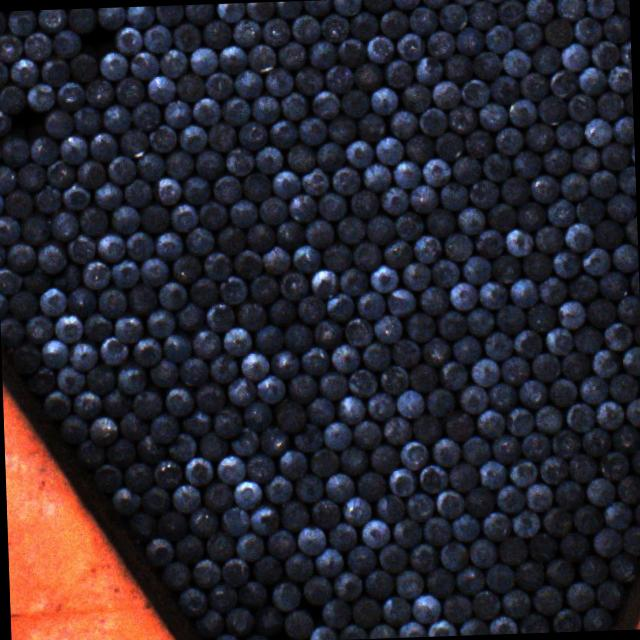tool: (464, 484, 494, 518), (74, 438, 105, 469), (282, 608, 312, 640), (466, 536, 496, 568), (156, 510, 188, 540), (204, 530, 234, 562), (564, 401, 594, 433), (14, 161, 46, 191), (290, 12, 320, 44), (444, 52, 474, 84), (508, 276, 538, 308), (212, 405, 241, 438), (380, 595, 410, 626), (490, 432, 520, 463), (104, 436, 134, 467), (54, 80, 84, 111), (454, 25, 484, 56), (351, 596, 380, 628), (532, 584, 562, 614), (500, 588, 530, 618), (410, 593, 440, 623), (320, 597, 350, 627), (364, 568, 394, 598), (514, 560, 544, 590), (578, 554, 608, 584), (344, 544, 374, 574), (496, 535, 526, 565), (558, 532, 588, 562), (592, 526, 622, 556), (124, 462, 154, 492), (460, 434, 490, 464), (610, 423, 640, 453), (356, 470, 386, 500), (295, 524, 325, 554), (572, 504, 602, 534), (28, 134, 58, 164), (98, 50, 128, 80), (118, 128, 148, 158), (275, 40, 305, 70), (394, 31, 424, 61), (512, 20, 542, 50), (500, 46, 530, 76), (589, 39, 619, 69), (215, 453, 244, 484), (188, 505, 217, 536), (254, 604, 282, 636), (88, 130, 116, 162), (237, 580, 266, 610), (425, 567, 454, 597), (454, 565, 484, 594), (283, 551, 312, 581), (377, 542, 406, 572), (438, 540, 467, 570), (527, 532, 556, 562), (245, 452, 274, 482), (550, 428, 580, 457), (375, 492, 404, 522), (554, 479, 584, 508), (234, 530, 263, 560), (326, 521, 356, 550), (594, 399, 624, 428), (71, 104, 100, 134), (101, 103, 131, 132), (175, 72, 205, 101), (320, 12, 349, 42), (217, 44, 246, 74), (483, 23, 513, 52), (530, 44, 559, 74), (559, 40, 588, 70), (49, 210, 78, 240), (20, 214, 49, 244), (116, 363, 145, 393), (248, 274, 278, 303), (292, 422, 321, 452), (458, 384, 488, 413), (224, 606, 252, 637), (276, 401, 304, 432), (565, 581, 594, 610), (370, 444, 399, 473), (359, 518, 388, 547), (39, 57, 68, 86), (388, 109, 417, 138), (66, 234, 95, 263), (500, 176, 529, 205), (10, 342, 38, 372), (58, 413, 86, 443), (88, 416, 116, 446), (161, 560, 189, 590), (178, 586, 206, 616), (271, 580, 299, 610), (394, 568, 422, 598), (409, 542, 437, 572), (152, 458, 180, 488), (182, 456, 212, 484), (520, 430, 548, 460), (598, 450, 626, 480), (568, 452, 596, 482), (540, 454, 568, 484), (204, 482, 232, 512), (249, 504, 277, 534), (310, 498, 338, 528), (435, 488, 463, 518), (392, 518, 422, 546), (481, 510, 509, 540), (510, 508, 538, 538), (542, 506, 570, 536), (72, 388, 100, 418), (68, 52, 96, 82), (0, 136, 28, 166), (46, 158, 74, 188), (84, 77, 112, 107), (128, 50, 158, 78), (130, 100, 158, 130), (58, 133, 86, 163), (188, 46, 218, 74), (190, 97, 220, 125), (233, 68, 261, 98), (337, 36, 365, 66), (366, 34, 394, 64), (292, 66, 322, 94), (414, 55, 442, 85), (543, 18, 573, 46), (602, 12, 630, 42), (473, 49, 501, 79), (236, 121, 266, 149), (548, 68, 576, 98), (93, 180, 121, 210), (36, 244, 64, 274), (102, 386, 130, 416), (212, 174, 240, 204), (169, 202, 197, 232), (192, 328, 220, 358), (270, 169, 300, 197), (468, 178, 496, 208), (605, 194, 635, 222), (304, 218, 332, 248), (475, 228, 503, 258), (278, 270, 306, 300), (522, 250, 550, 280), (254, 323, 282, 353), (314, 319, 342, 349), (514, 328, 542, 358), (470, 356, 498, 386), (444, 412, 474, 440), (175, 533, 202, 564), (94, 463, 122, 492), (596, 579, 624, 608), (442, 594, 471, 622), (332, 571, 361, 599), (545, 558, 574, 586), (252, 555, 280, 584), (314, 547, 342, 576), (278, 448, 306, 477), (310, 447, 338, 476), (431, 436, 459, 465), (581, 427, 610, 455), (232, 480, 260, 509), (280, 500, 308, 529), (586, 476, 614, 505), (266, 528, 294, 557), (8, 290, 36, 319), (8, 57, 36, 86), (26, 82, 54, 111), (142, 23, 170, 52), (114, 76, 142, 105), (408, 6, 436, 35), (307, 40, 336, 68), (323, 64, 352, 92), (353, 61, 381, 90), (384, 58, 412, 87), (438, 1, 466, 30), (224, 146, 253, 174), (490, 74, 518, 103), (404, 134, 433, 162), (448, 104, 476, 133), (96, 234, 125, 262), (132, 389, 160, 418), (118, 411, 146, 440), (138, 433, 166, 462), (222, 326, 250, 355), (409, 184, 437, 213), (560, 171, 588, 200), (366, 215, 394, 244), (284, 323, 312, 352), (406, 313, 434, 342), (484, 330, 512, 359), (518, 378, 546, 407), (208, 582, 235, 612), (295, 472, 322, 502), (478, 458, 505, 488), (406, 491, 433, 521), (51, 28, 78, 58), (247, 42, 274, 72), (495, 0, 525, 27), (97, 286, 124, 316), (85, 364, 112, 394), (165, 386, 192, 416), (203, 250, 230, 280), (233, 248, 260, 278), (219, 274, 246, 304), (245, 222, 272, 252), (352, 240, 379, 270), (462, 254, 489, 284), (566, 274, 596, 301), (345, 316, 372, 346), (438, 310, 465, 340), (422, 336, 449, 366), (379, 364, 406, 394), (26, 366, 54, 394), (302, 576, 330, 604), (608, 552, 636, 580), (140, 486, 168, 514), (264, 474, 292, 502), (448, 462, 476, 490), (496, 484, 524, 512), (423, 516, 451, 544), (24, 314, 52, 342), (146, 75, 174, 103), (202, 19, 230, 47), (163, 100, 191, 128), (264, 68, 292, 96), (348, 11, 376, 39), (426, 29, 454, 57), (467, 0, 495, 28), (574, 16, 602, 44), (220, 96, 248, 124), (146, 124, 174, 152), (177, 124, 205, 152), (106, 155, 134, 183), (76, 160, 104, 188), (164, 150, 192, 178), (402, 83, 430, 111), (460, 78, 488, 106), (519, 72, 547, 100), (578, 66, 606, 94), (356, 112, 384, 140), (344, 138, 372, 166), (433, 132, 461, 160), (508, 98, 536, 126), (478, 102, 506, 130), (582, 117, 610, 145), (554, 119, 582, 147), (524, 123, 552, 151), (4, 188, 32, 216), (124, 231, 152, 259), (156, 280, 184, 308), (82, 312, 110, 340), (99, 336, 127, 364), (242, 172, 270, 200), (228, 198, 256, 226), (216, 226, 244, 254), (162, 332, 190, 360), (362, 162, 390, 190), (392, 160, 420, 188), (288, 193, 316, 221), (316, 192, 344, 220), (451, 155, 479, 183), (570, 145, 598, 173), (530, 174, 558, 202), (516, 201, 544, 229), (563, 222, 591, 250), (424, 208, 452, 236), (443, 232, 471, 260), (322, 242, 350, 270), (291, 244, 319, 272), (338, 267, 366, 295), (402, 262, 430, 290), (598, 270, 626, 298), (476, 280, 504, 308), (420, 286, 448, 314), (296, 295, 324, 323), (496, 304, 524, 332), (557, 300, 585, 328), (602, 321, 630, 349), (240, 352, 268, 380), (330, 342, 358, 370), (362, 342, 390, 370), (257, 375, 285, 403), (230, 426, 258, 454), (452, 336, 480, 364), (348, 368, 376, 396), (487, 382, 515, 410), (476, 408, 504, 436), (395, 389, 423, 417), (221, 505, 248, 534), (146, 308, 173, 337), (168, 432, 195, 461), (190, 276, 217, 305), (422, 157, 449, 186), (482, 152, 509, 181), (588, 169, 615, 198), (574, 196, 603, 223), (395, 211, 422, 240), (288, 373, 315, 402), (243, 402, 270, 431), (392, 338, 419, 367), (192, 558, 218, 588), (221, 556, 247, 586), (486, 562, 512, 592), (340, 444, 366, 474), (172, 21, 198, 51), (262, 16, 288, 46), (208, 122, 234, 152), (432, 78, 458, 108), (538, 95, 564, 125), (38, 286, 64, 316), (68, 285, 94, 315), (310, 268, 336, 298), (581, 606, 612, 631), (112, 486, 139, 514), (145, 536, 172, 564), (195, 608, 222, 636), (508, 459, 536, 486), (172, 484, 199, 512), (419, 464, 446, 492), (342, 496, 369, 524), (22, 31, 49, 59), (44, 110, 72, 137), (252, 95, 279, 123), (268, 119, 296, 146), (298, 116, 325, 144), (195, 150, 222, 178), (287, 144, 314, 172), (316, 143, 344, 170), (374, 136, 401, 164), (605, 64, 632, 92), (494, 126, 521, 154), (7, 244, 34, 272), (110, 205, 138, 232), (81, 261, 108, 289), (54, 314, 81, 342), (140, 205, 168, 232), (185, 226, 212, 254), (198, 200, 225, 228), (172, 254, 200, 281), (206, 302, 233, 330), (237, 302, 264, 330), (331, 165, 358, 193), (258, 195, 286, 222), (350, 188, 377, 216), (380, 186, 408, 213), (440, 182, 467, 210), (546, 198, 574, 225), (504, 228, 532, 255), (534, 225, 562, 252), (594, 220, 621, 248), (456, 206, 484, 233), (385, 240, 412, 268), (370, 264, 397, 292), (431, 258, 458, 286), (491, 254, 518, 282), (448, 280, 475, 308), (386, 287, 414, 314), (374, 314, 401, 342), (587, 298, 614, 326), (545, 326, 572, 354), (179, 356, 206, 384), (209, 354, 236, 382), (271, 350, 298, 378), (228, 377, 255, 405), (260, 426, 287, 454), (438, 361, 466, 388), (561, 352, 589, 379), (609, 372, 636, 400), (579, 375, 606, 403), (505, 406, 532, 434), (425, 388, 452, 416), (412, 414, 439, 442), (383, 416, 410, 444), (367, 392, 394, 420), (526, 482, 552, 511), (603, 500, 629, 529), (40, 339, 66, 368), (114, 26, 140, 55), (60, 182, 89, 208), (124, 178, 150, 207), (70, 341, 96, 370), (150, 414, 176, 443), (262, 245, 288, 274), (573, 326, 602, 352), (401, 440, 426, 470), (5, 10, 35, 35), (43, 391, 70, 418), (379, 9, 406, 36), (255, 145, 282, 172), (566, 93, 593, 120), (80, 208, 107, 235), (300, 167, 327, 194), (542, 148, 569, 175), (413, 235, 440, 262), (196, 384, 223, 411), (319, 371, 346, 398), (409, 364, 436, 391), (128, 512, 154, 540), (472, 590, 498, 618), (326, 472, 352, 500), (452, 512, 478, 540), (159, 48, 185, 76), (204, 71, 230, 99), (232, 19, 260, 45), (312, 90, 338, 118), (136, 152, 162, 180), (419, 106, 445, 134), (595, 92, 621, 120), (154, 231, 180, 259), (110, 258, 136, 286), (128, 284, 156, 310), (114, 314, 140, 342), (154, 176, 180, 204), (600, 143, 628, 169), (612, 244, 638, 272), (276, 220, 302, 248), (538, 275, 564, 303), (326, 292, 352, 320), (268, 298, 294, 326), (466, 307, 492, 335), (301, 346, 327, 374), (353, 420, 379, 448), (532, 352, 558, 380), (549, 377, 575, 405), (387, 468, 412, 497), (464, 128, 489, 157), (308, 396, 333, 425), (338, 393, 363, 422), (36, 8, 66, 32), (56, 366, 82, 393), (327, 116, 354, 142), (132, 338, 159, 364), (150, 358, 176, 385), (512, 150, 538, 177), (582, 247, 608, 274), (336, 215, 362, 242), (552, 251, 579, 277), (528, 304, 554, 331), (322, 421, 348, 448), (552, 607, 580, 632), (371, 86, 396, 114), (357, 290, 382, 318), (615, 295, 640, 323), (502, 356, 527, 384), (535, 404, 560, 432), (616, 474, 640, 503), (66, 8, 95, 32), (0, 84, 24, 113), (280, 91, 304, 120), (592, 348, 616, 377), (0, 316, 23, 346), (183, 3, 213, 26), (34, 186, 60, 212), (21, 266, 47, 292), (140, 259, 166, 285), (488, 203, 514, 229), (611, 115, 634, 144), (53, 264, 78, 290), (177, 302, 202, 328), (342, 89, 366, 116), (182, 410, 209, 434), (184, 176, 208, 203), (525, 0, 553, 23), (154, 4, 183, 26), (518, 612, 548, 633), (0, 32, 21, 62), (200, 432, 224, 458), (620, 524, 640, 555), (97, 6, 125, 28), (126, 6, 154, 28), (556, 0, 584, 21), (459, 616, 488, 636), (214, 2, 243, 22), (0, 266, 21, 293), (488, 614, 516, 634), (426, 618, 456, 636), (244, 2, 274, 20), (0, 214, 18, 243), (622, 345, 640, 374), (338, 622, 366, 640), (618, 165, 636, 193), (398, 620, 425, 638), (586, 0, 612, 18), (368, 622, 397, 638), (624, 397, 640, 426), (0, 164, 15, 194), (308, 623, 334, 640), (302, 0, 331, 15), (275, 1, 300, 18), (332, 0, 360, 15), (624, 217, 638, 246), (362, 0, 391, 11), (630, 447, 640, 476), (0, 109, 9, 136), (615, 0, 629, 15), (633, 499, 640, 527), (391, 0, 418, 7), (421, 0, 448, 7), (0, 58, 6, 88), (0, 11, 4, 37)
void: (8, 107, 44, 139), (78, 27, 113, 57)
